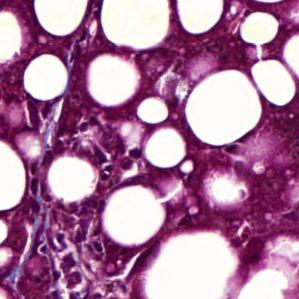steatosis: (24, 52, 69, 101), (0, 139, 28, 211), (34, 0, 88, 36), (179, 0, 225, 35)
